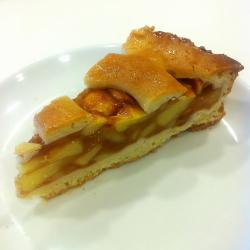apple_pie: (10, 15, 243, 211)
